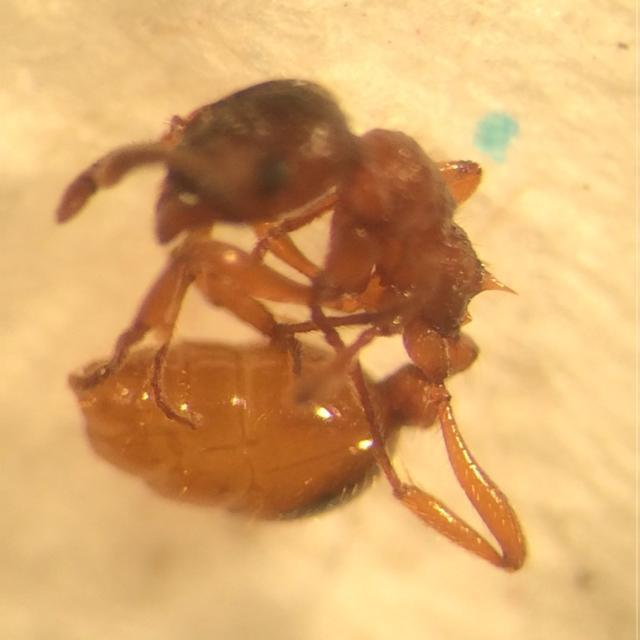Myrmica: (84, 53, 616, 612)
